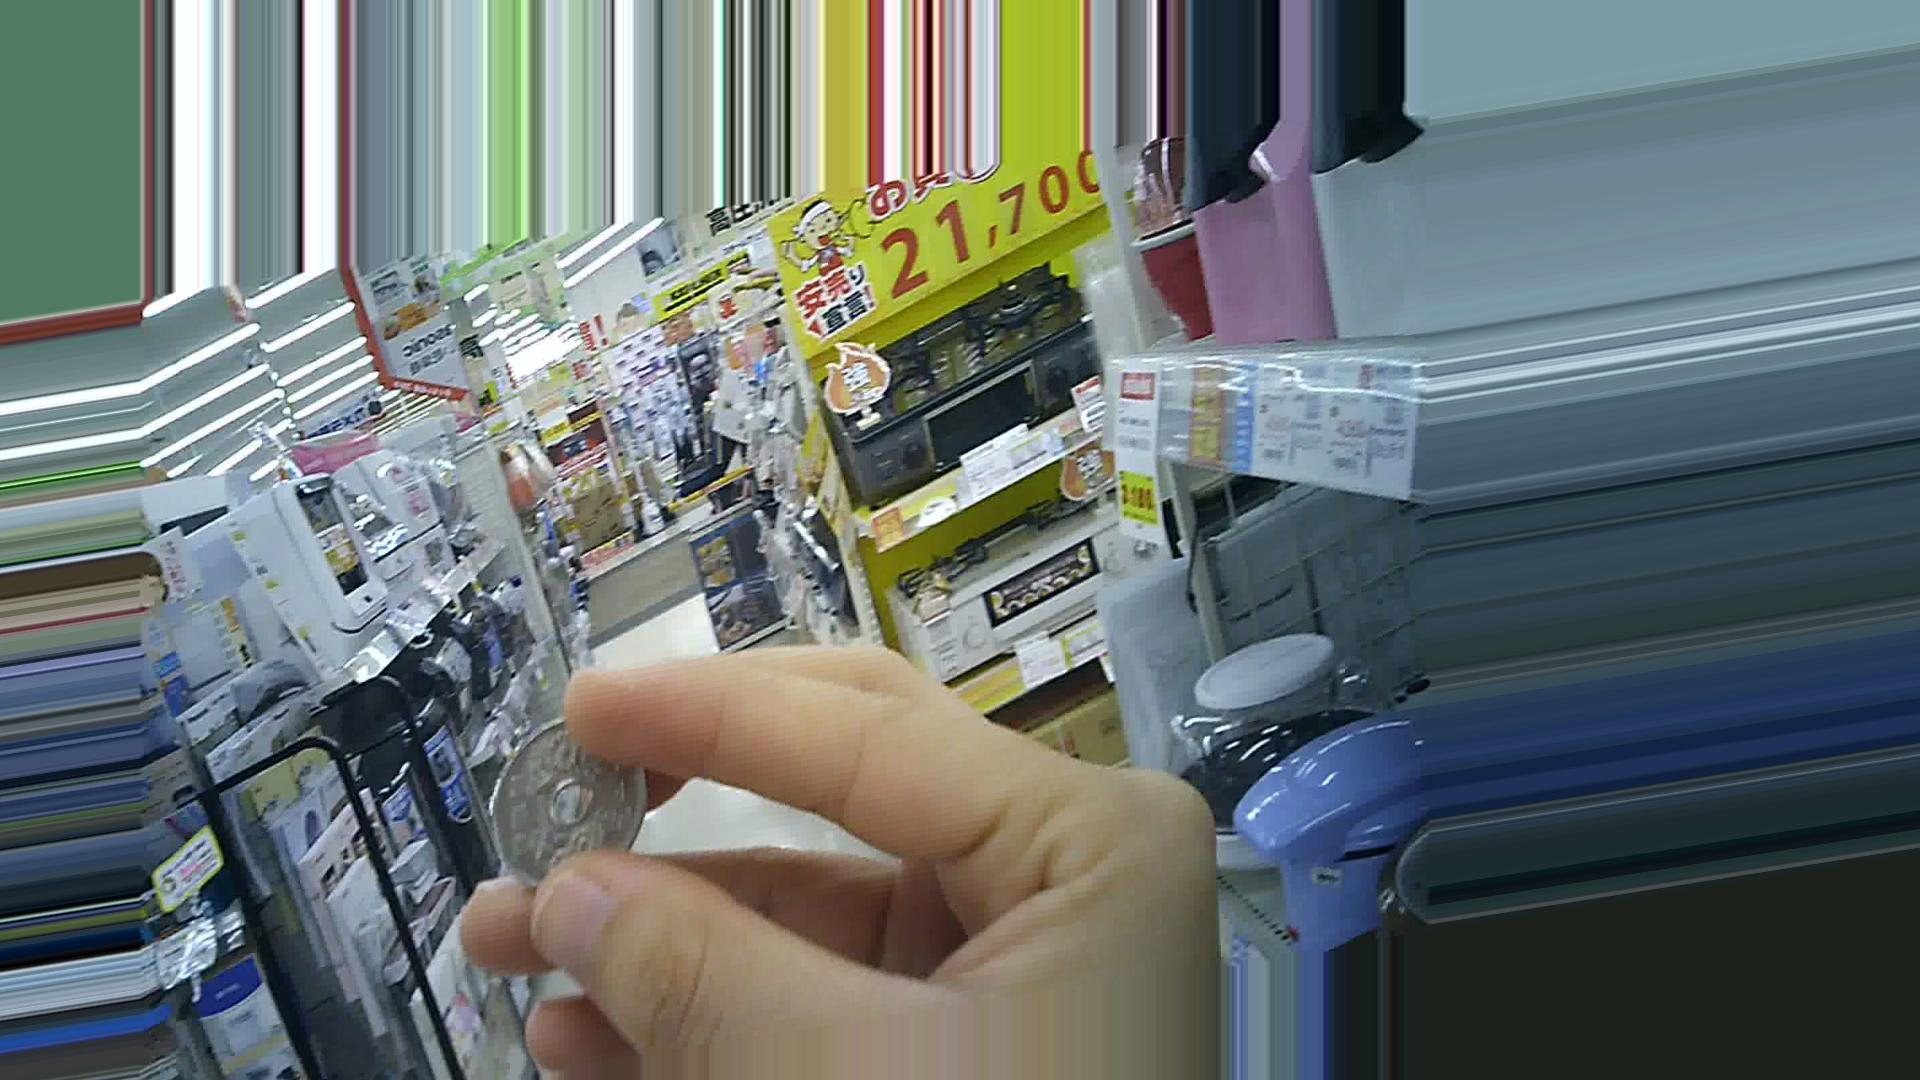50 Yen: (484, 711, 653, 894)
